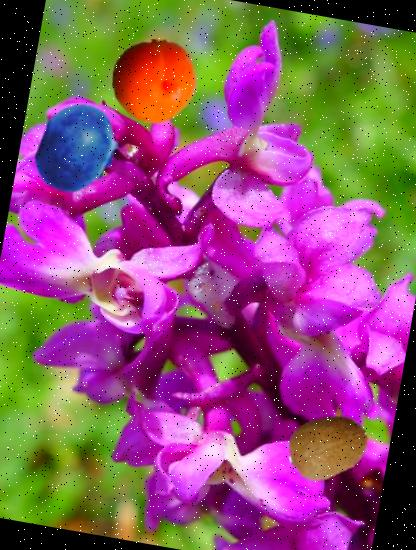Apricot: (106, 32, 204, 130)
Huckleberry: (23, 95, 132, 204)
Kiwi: (280, 400, 375, 494)
